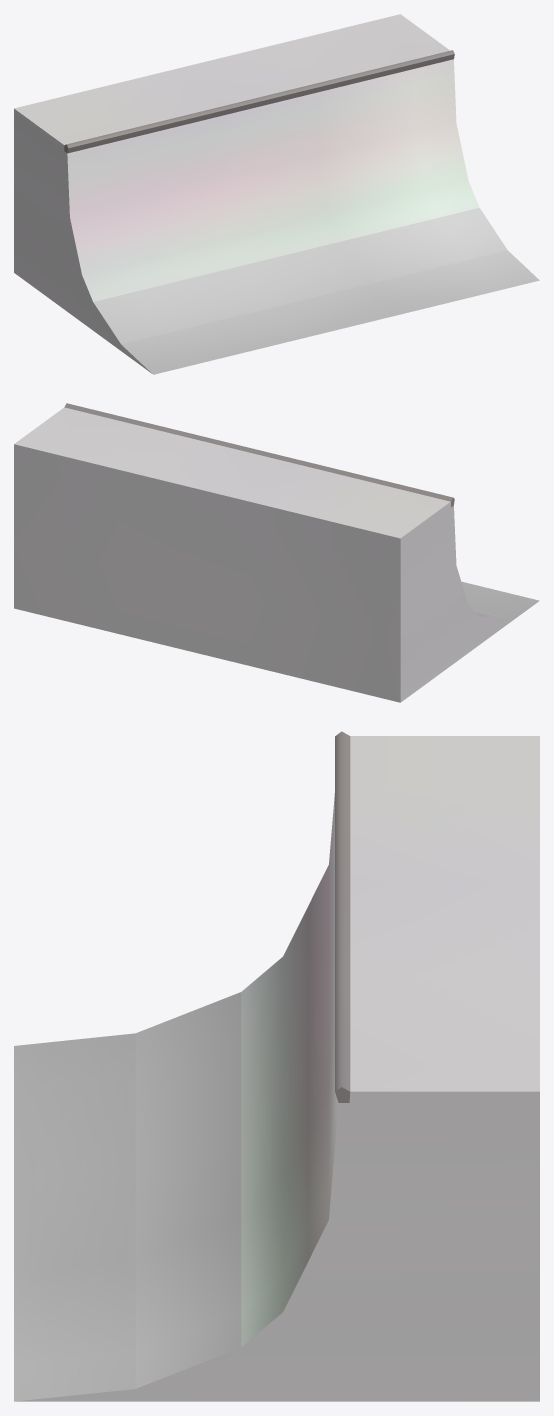
The model's file is SkateboardVertWallCement.glb.
3 views of the same model, one above another, from view 1: azimuth 30°, elevation 25°; view 2: azimuth 150°, elevation 25°; view 3: azimuth 270°, elevation 25° (orthographic). The views are drawn at different scales.
Visible parts, largest first — view 1: SkateboardVertWallCement; view 2: SkateboardVertWallCement; view 3: SkateboardVertWallCement.
Part boxes in pixels (box(x1,y1,x2,y2)): SkateboardVertWallCement: box(14, 14, 539, 374); SkateboardVertWallCement: box(14, 403, 539, 702); SkateboardVertWallCement: box(14, 731, 539, 1401).
Bounding box in the file's own units: 8 × 3.3 × 5.
Materials: 1 (1 with a texture image).
